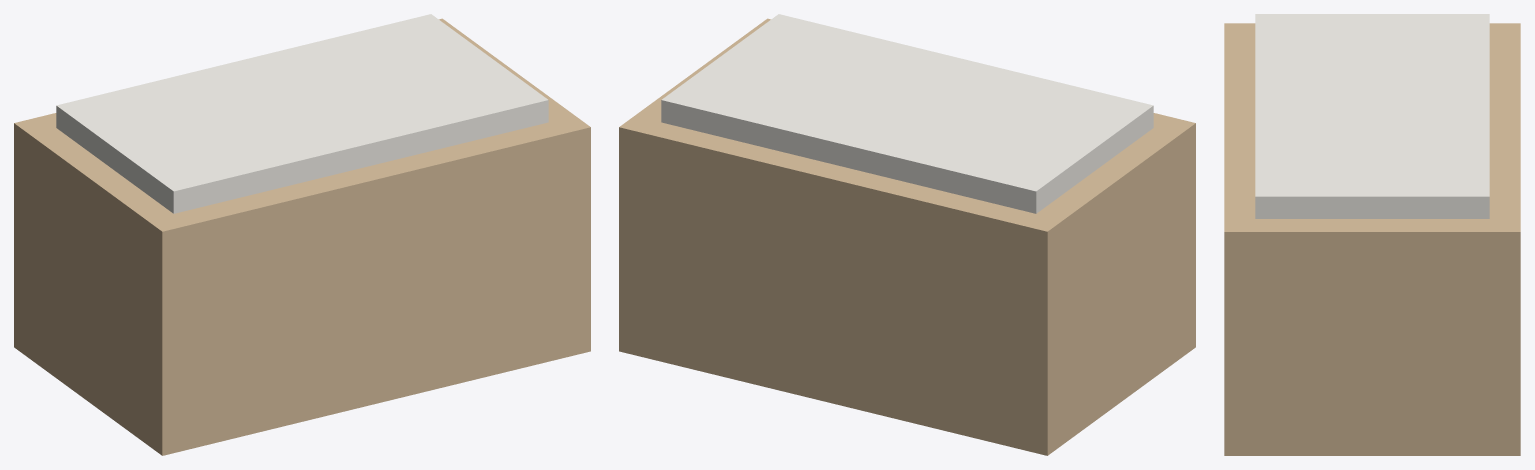
The model's file is plinth.glb.
3 views of the same model, side by side, from view 1: azimuth 30°, elevation 25°; view 2: azimuth 150°, elevation 25°; view 3: azimuth 270°, elevation 25° (orthographic).
Visible parts, largest first — view 1: root; view 2: root; view 3: root.
Boxes of the visible parts, box(x1,y1,x2,y2) form: root: box(14, 14, 590, 455); root: box(619, 14, 1195, 455); root: box(1224, 14, 1520, 455).
Bounding box in the file's own units: 0.8 × 0.44 × 0.48.
